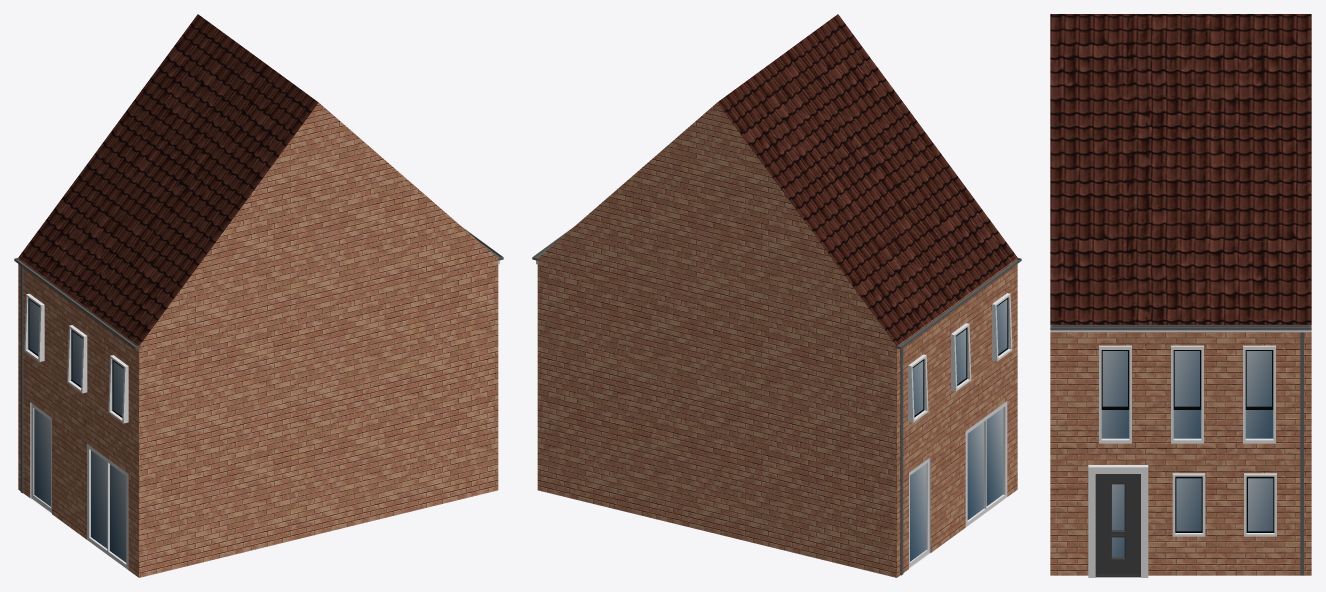
Rendered from Woning_39723_A1.fbx.
The picture shows the model from 3 angles, left to right: view 1: azimuth 30°, elevation 25°; view 2: azimuth 150°, elevation 25°; view 3: azimuth 270°, elevation 25°; orthographic projection. The views are drawn at different scales.
Parts seen in each view (by area): view 1: Woning_39723_A1; view 2: Woning_39723_A1; view 3: Woning_39723_A1.
Part boxes in pixels (x1,y1,x2,y2): Woning_39723_A1: [14, 14, 503, 577]; Woning_39723_A1: [532, 14, 1021, 577]; Woning_39723_A1: [1050, 14, 1311, 577].
Bounding box in the file's own units: 9.59 × 10.7 × 5.43.
